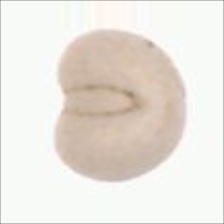L5: (59, 85, 147, 119), (171, 58, 191, 152)
L6: (50, 28, 191, 184)
